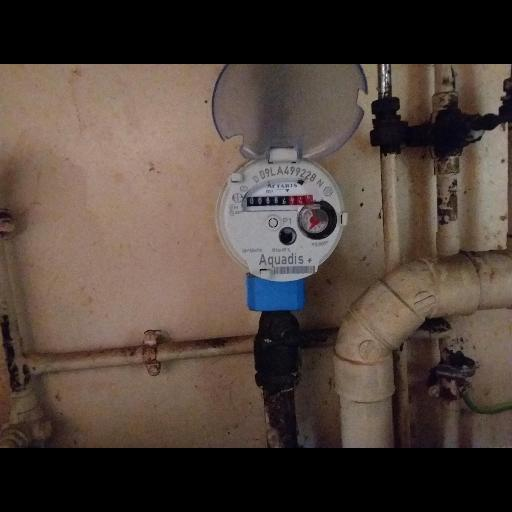0: (250, 196, 255, 206), (258, 197, 263, 206)
4: (297, 195, 304, 205)
6: (281, 197, 287, 206)
8: (265, 197, 271, 206), (273, 197, 279, 206)
9: (289, 196, 295, 205)
border_water_meter_number: (247, 195, 314, 208)
